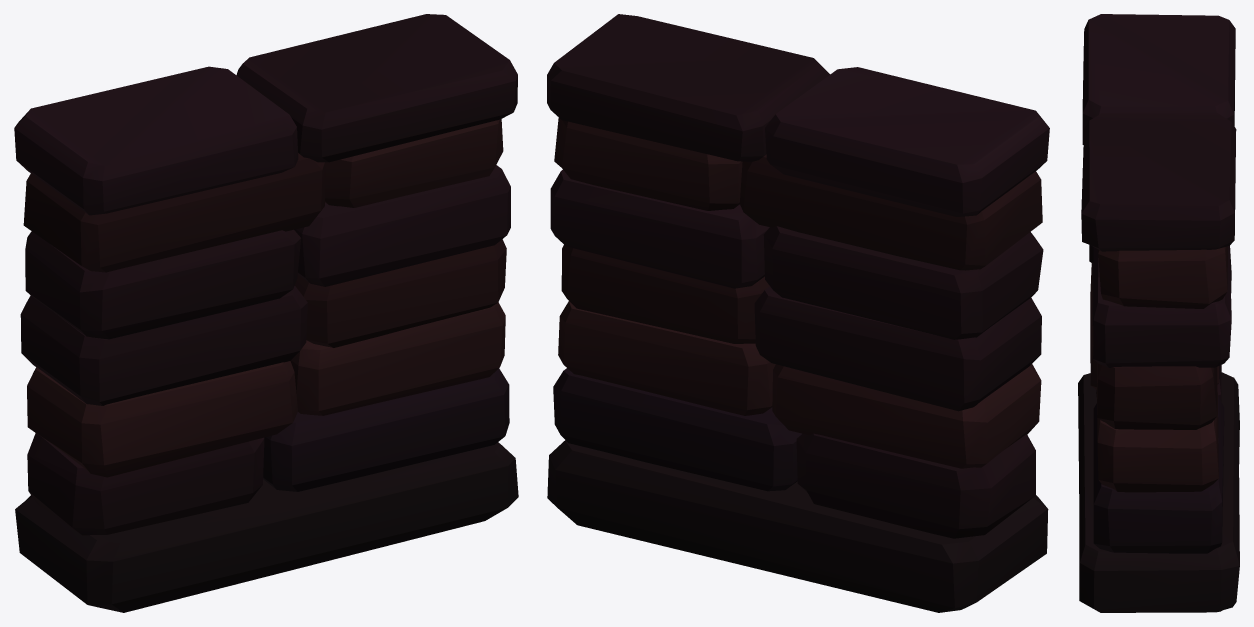
Rendered from Wall.fbx.
The picture shows the model from 3 angles, left to right: view 1: azimuth 30°, elevation 25°; view 2: azimuth 150°, elevation 25°; view 3: azimuth 270°, elevation 25°; orthographic projection. The views are drawn at different scales.
Parts seen in each view (by area): view 1: RuinsMasonry.RuinsMasonry; view 2: RuinsMasonry.RuinsMasonry; view 3: RuinsMasonry.RuinsMasonry.
Boxes of the visible parts, bbox=[...] form: RuinsMasonry.RuinsMasonry: bbox=[14, 14, 518, 612]; RuinsMasonry.RuinsMasonry: bbox=[547, 14, 1049, 612]; RuinsMasonry.RuinsMasonry: bbox=[1078, 14, 1239, 612].
Bounding box in the file's own units: 1.99 × 1.97 × 0.691.
